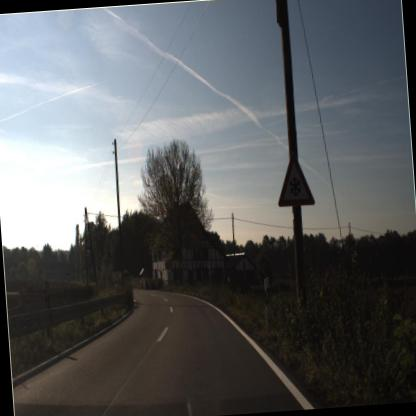danger: (271, 152, 318, 212)
